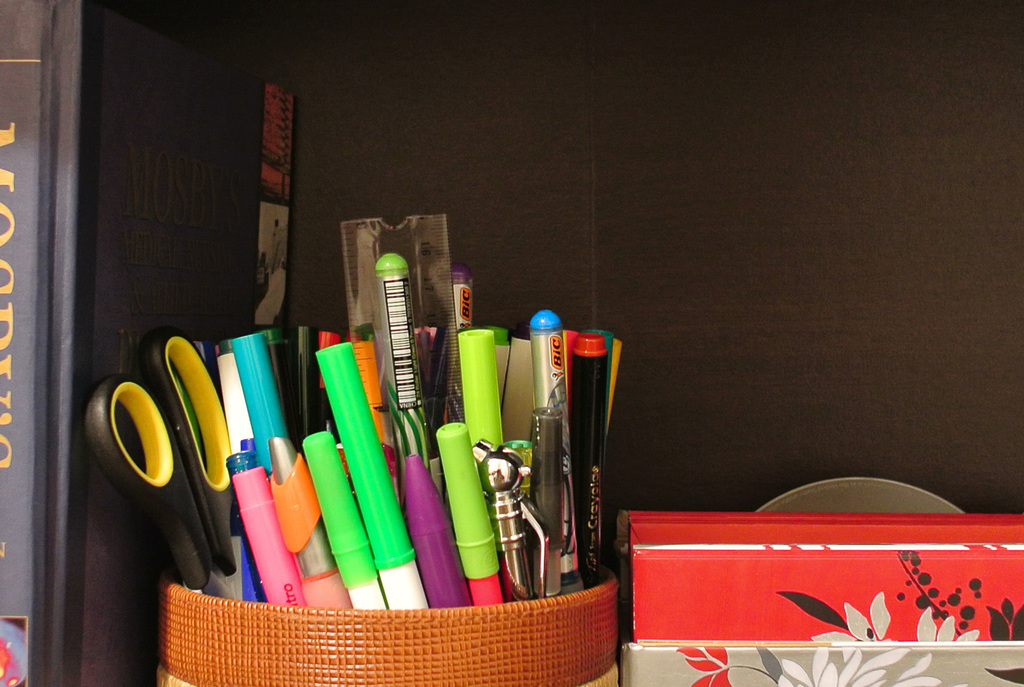Pen: (184, 252, 630, 615)
